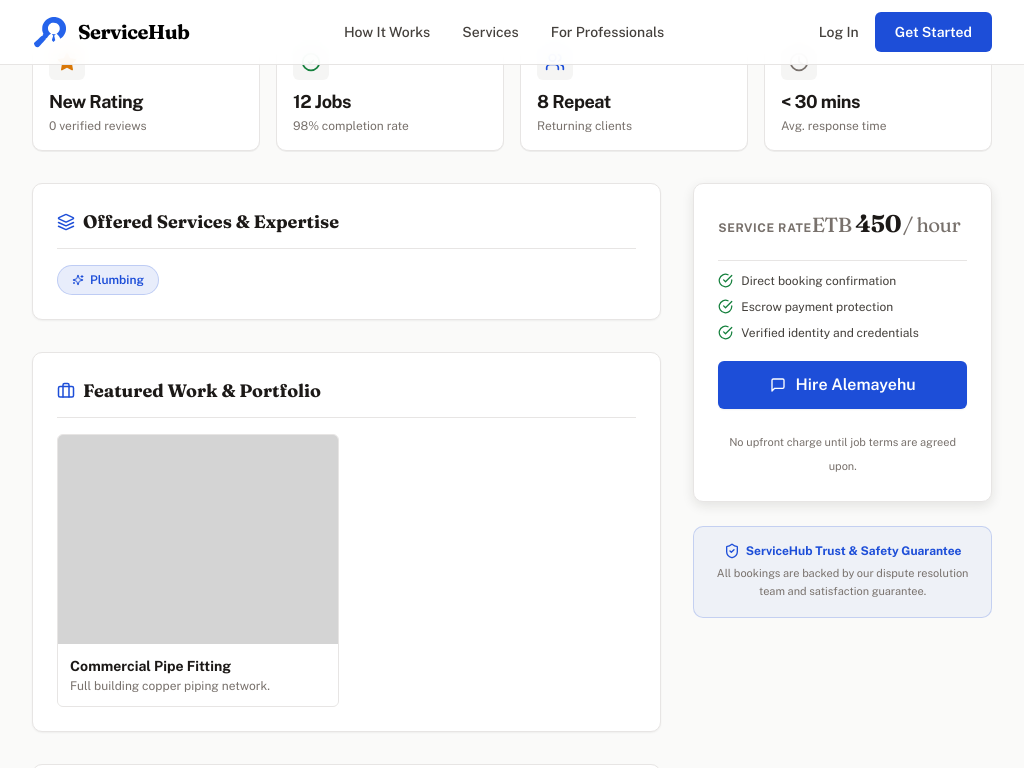
Test: PublicWorkerProfilePage › opens booking modal for authenticated user
(page scrolled)
Click the button "Hire Alemayehu" at (843, 385), box [718,361,967,409]
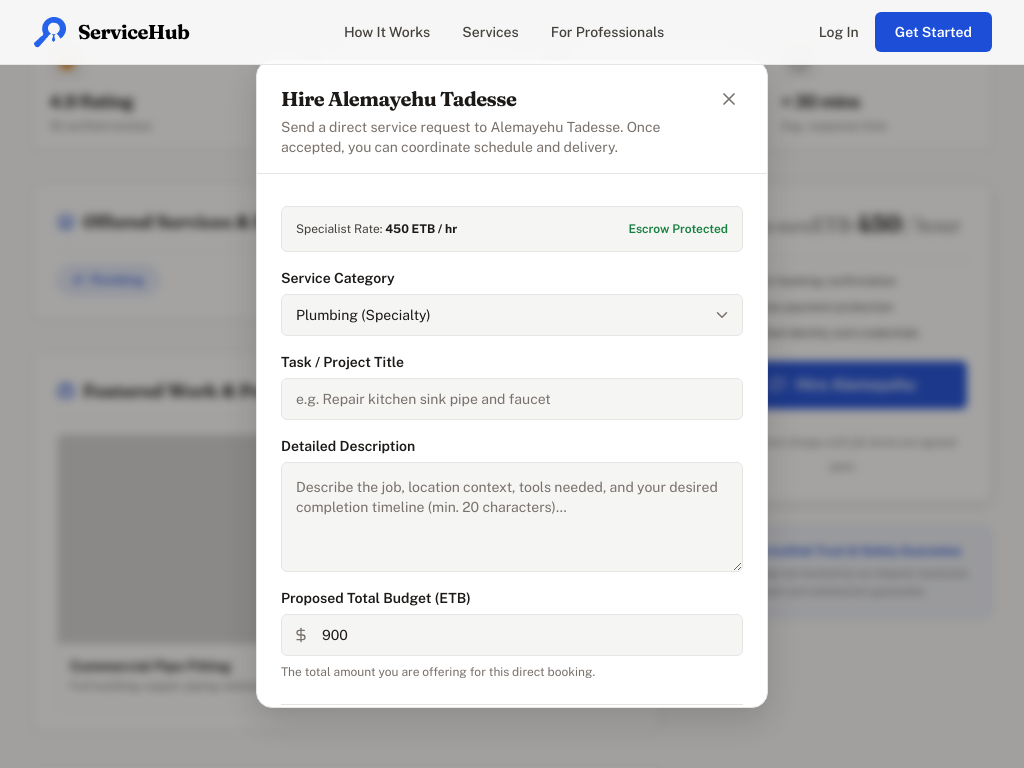
Check: the heading "Hire Alemayehu Tadesse" is shown, box [281,86,516,111]
